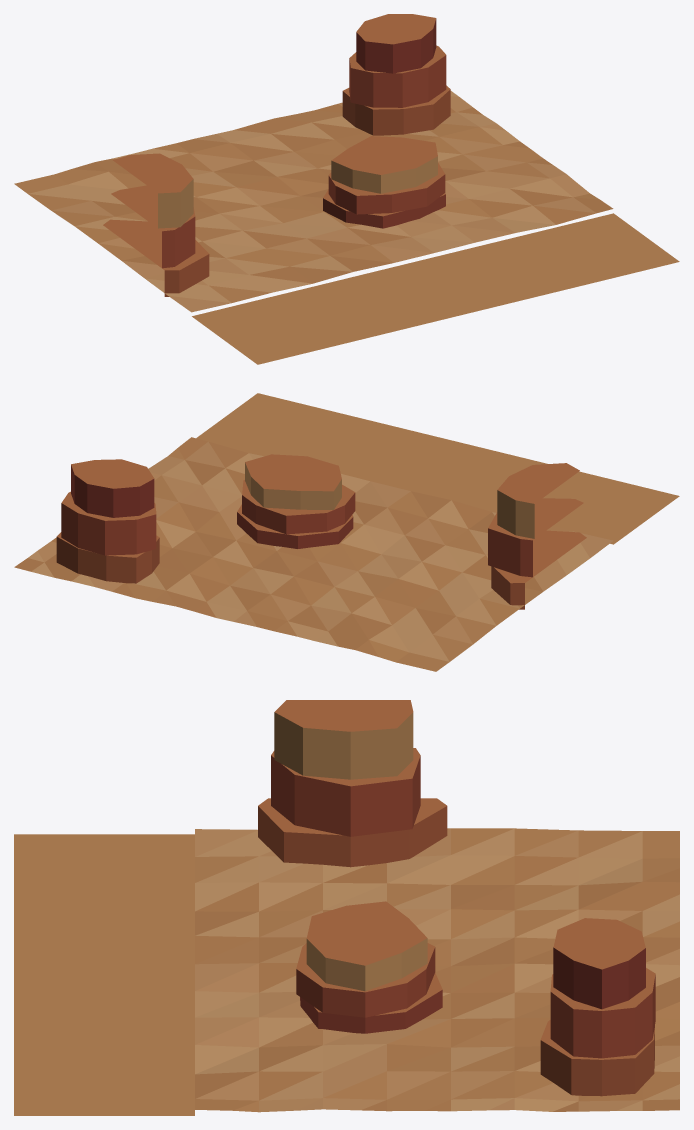
The picture shows the model from 3 angles, top to bottom: view 1: azimuth 30°, elevation 25°; view 2: azimuth 150°, elevation 25°; view 3: azimuth 270°, elevation 25°; orthographic projection. The views are drawn at different scales.
Parts seen in each view (by area): view 1: baked; view 2: baked; view 3: baked.
Part boxes in pixels (x1,y1,x2,y2): baked: (14, 14, 679, 364); baked: (14, 393, 679, 671); baked: (14, 700, 679, 1115).
Bounding box in the file's own units: 125 × 27.84 × 125.
